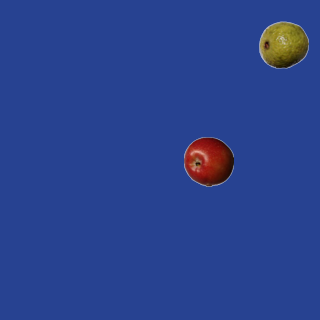Apple Braeburn: (183, 136, 233, 186)
Guava: (258, 19, 308, 69)
